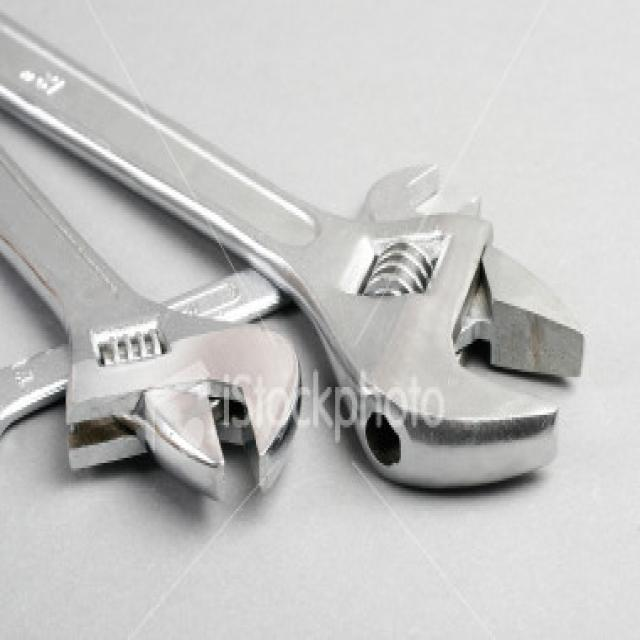wrench: (245, 99, 606, 546)
